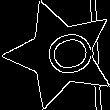O_W: (27, 25, 93, 84)
